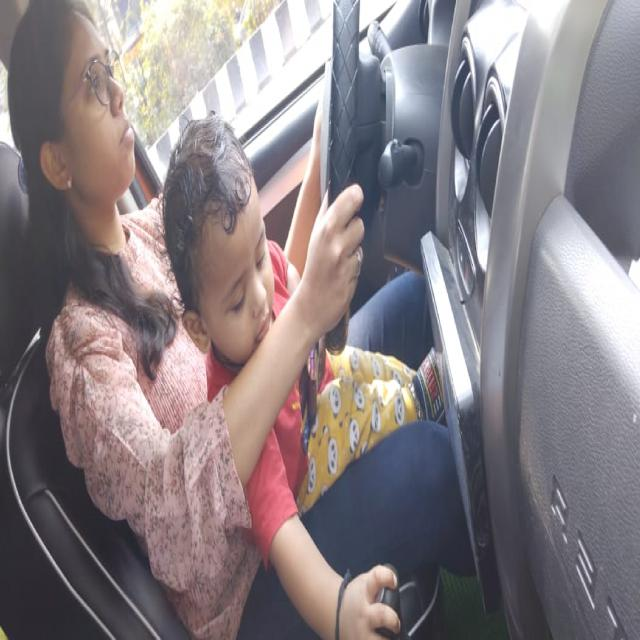child: (164, 117, 278, 360)
person: (8, 0, 146, 243)
